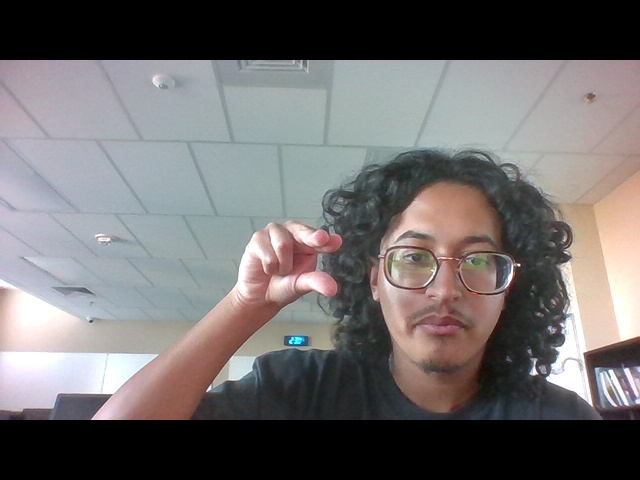no: (233, 209, 352, 315)
